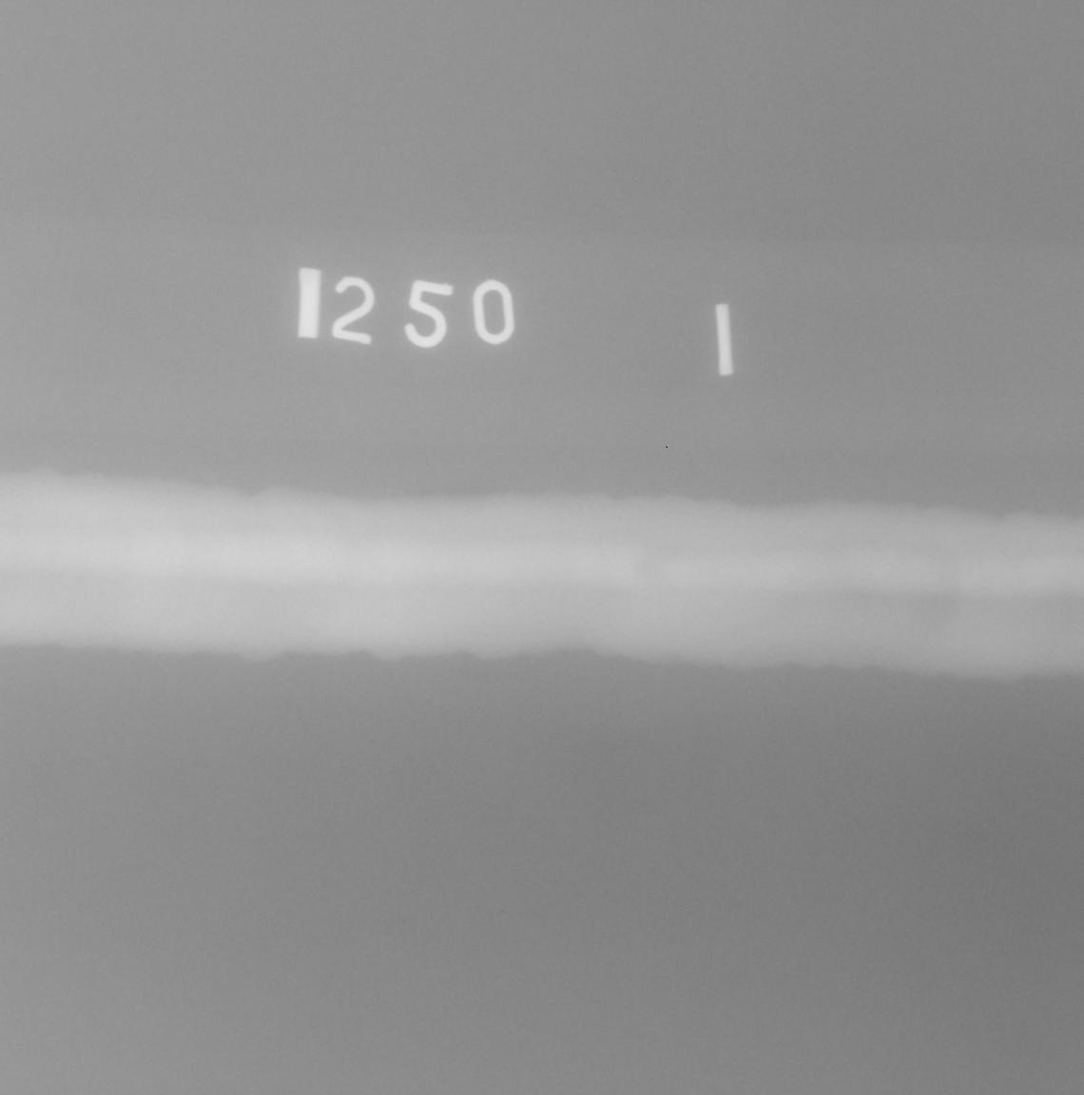Pore/Porosity: (1013, 565, 1018, 570)
